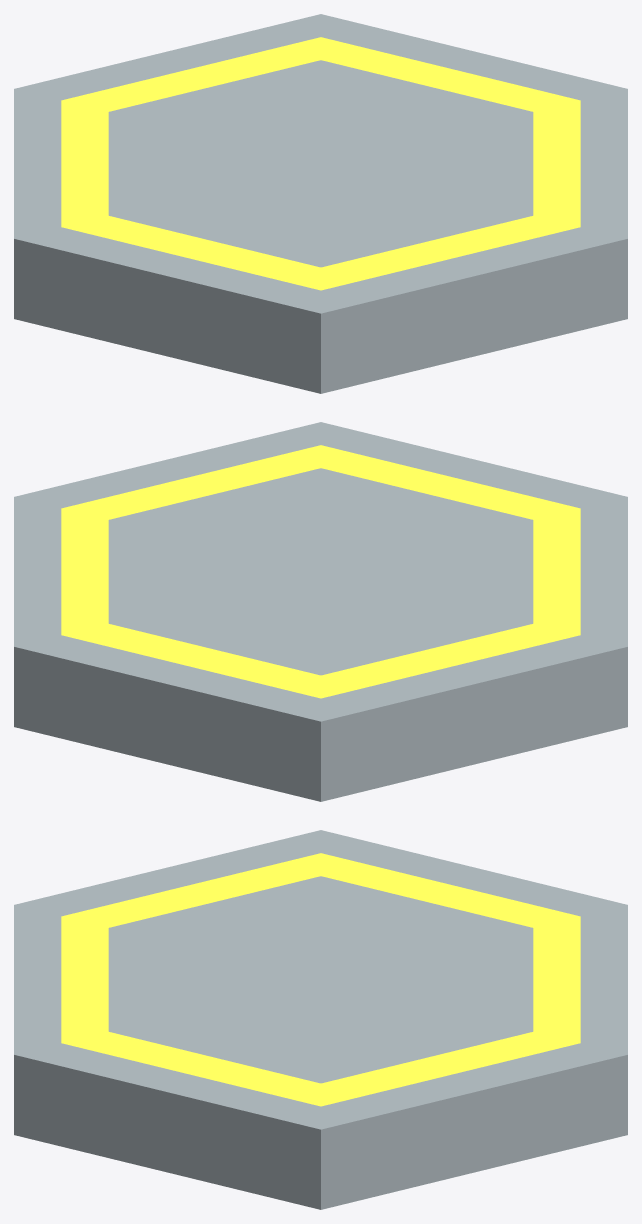
The model's file is SM_PlatformHexagon_v0.fbx.
The picture shows the model from 3 angles, top to bottom: view 1: azimuth 30°, elevation 25°; view 2: azimuth 150°, elevation 25°; view 3: azimuth 270°, elevation 25°; orthographic projection.
Visible parts, largest first — view 1: SM_PlatformHexagon_v0; view 2: SM_PlatformHexagon_v0; view 3: SM_PlatformHexagon_v0.
Part boxes in pixels (x1=…): SM_PlatformHexagon_v0: x1=14, y1=14, x2=627, y2=393; SM_PlatformHexagon_v0: x1=14, y1=422, x2=627, y2=801; SM_PlatformHexagon_v0: x1=14, y1=830, x2=627, y2=1209.
Size of the model in its own units: 1 by 0.125 by 0.866.
